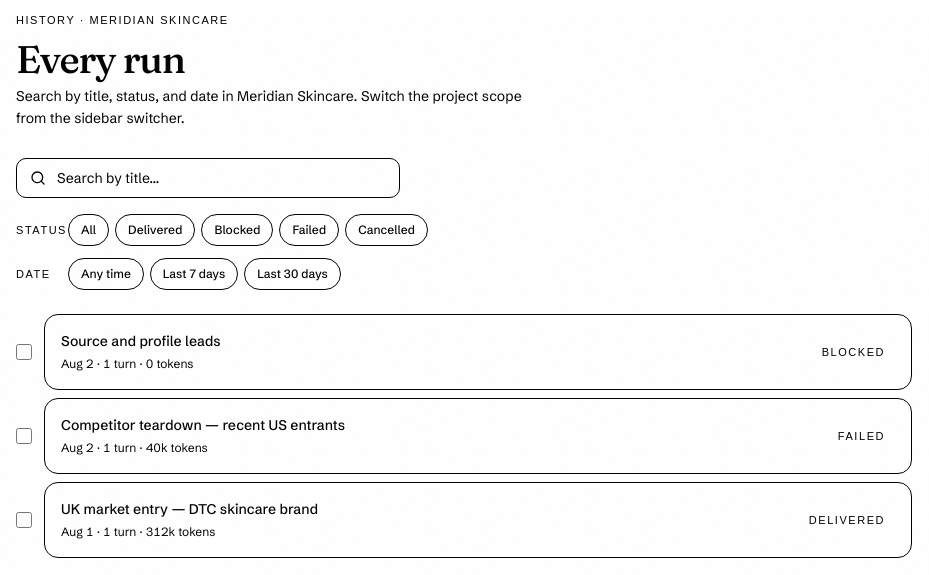
Test case: HistoryPage › filters by search text
In the search field named "Search run history": x=208, y=178 [16, 158, 400, 198], type "competitor"
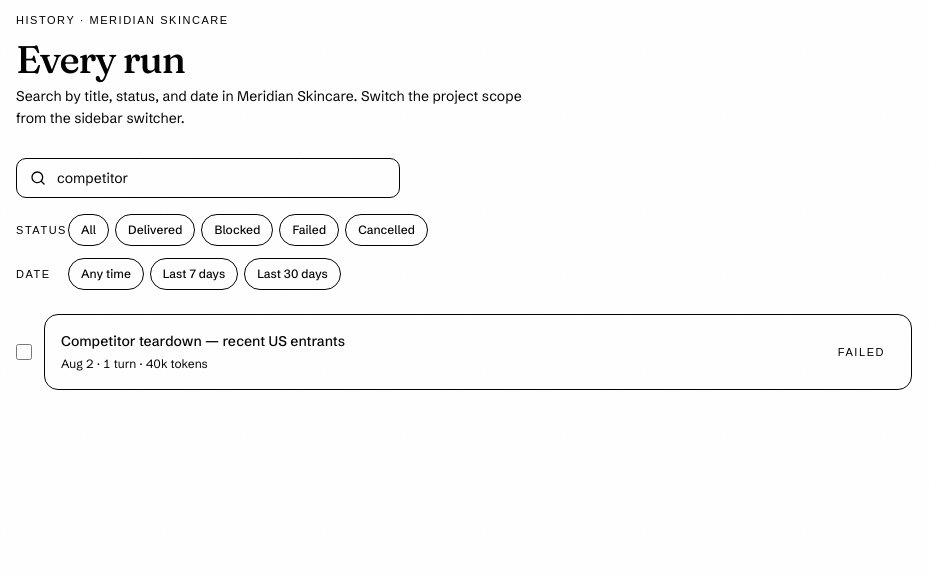
Expected: the text "Competitor teardown — recent US entrants" is shown, [61, 332, 345, 350]
Now the link "UK market entry — DTC skincare brand" is gone
Now the link "Source and profile leads" is gone
